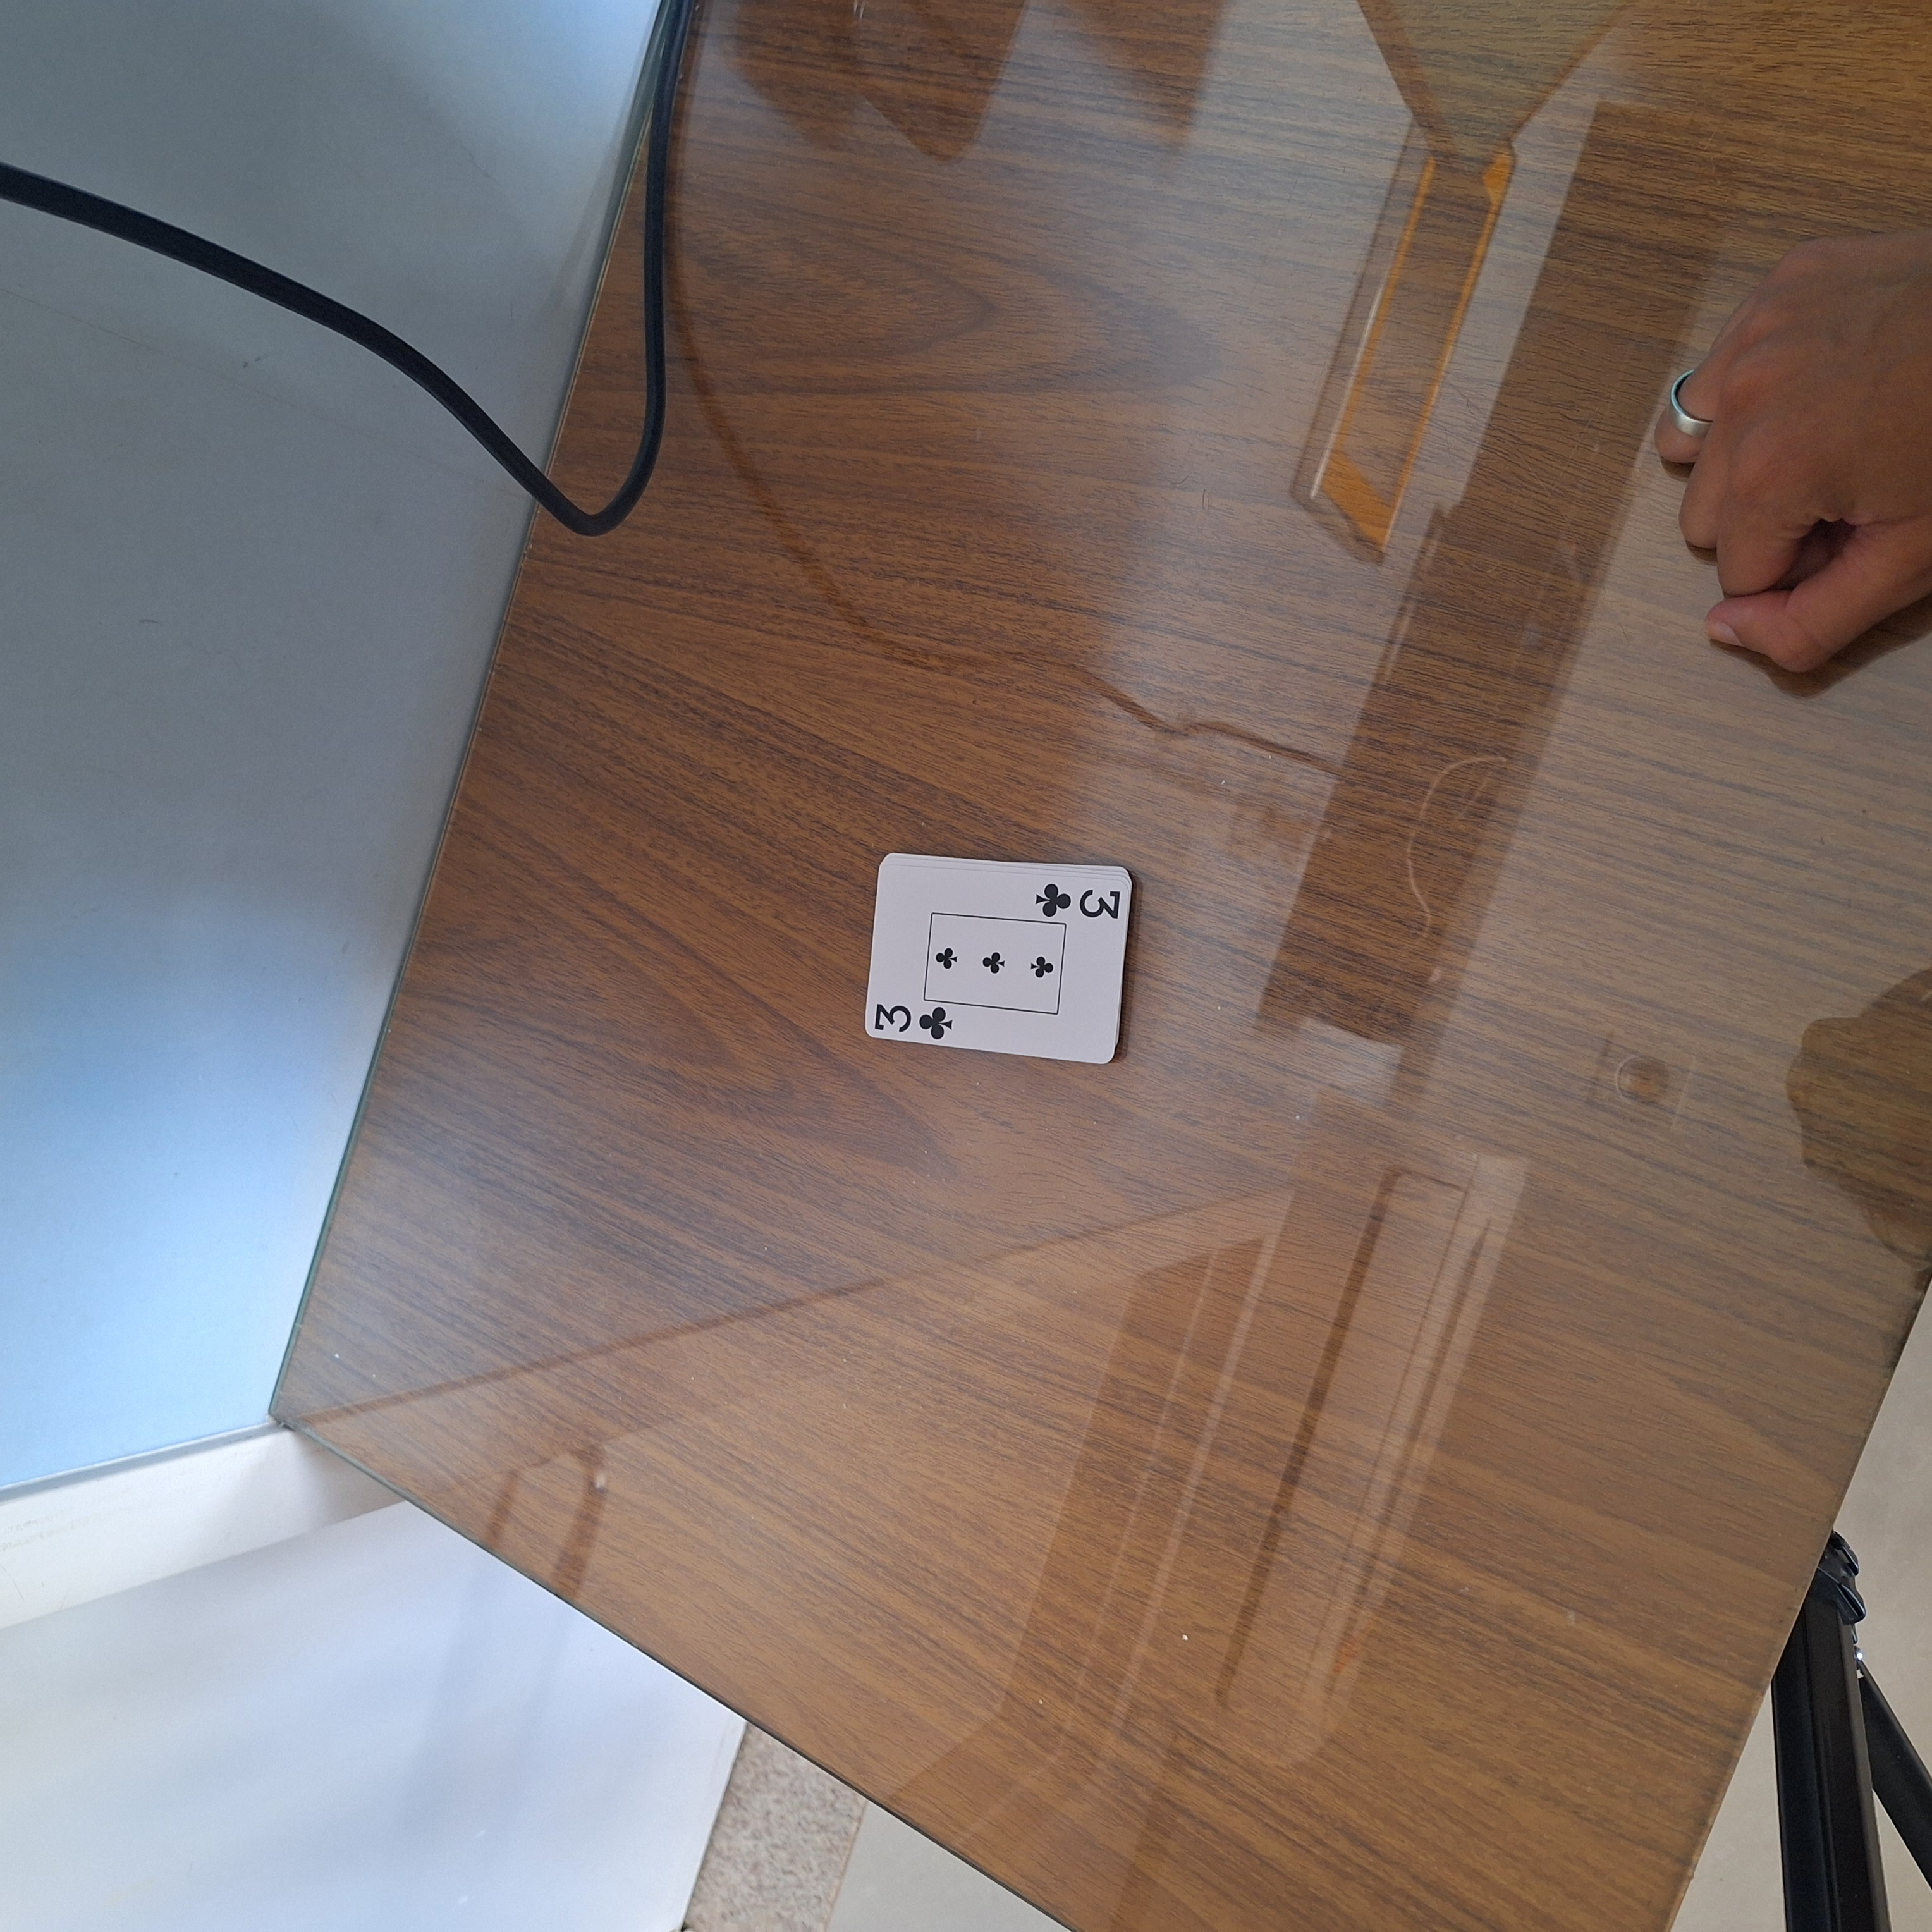3P: (1028, 879, 1132, 929), (860, 998, 961, 1044)
